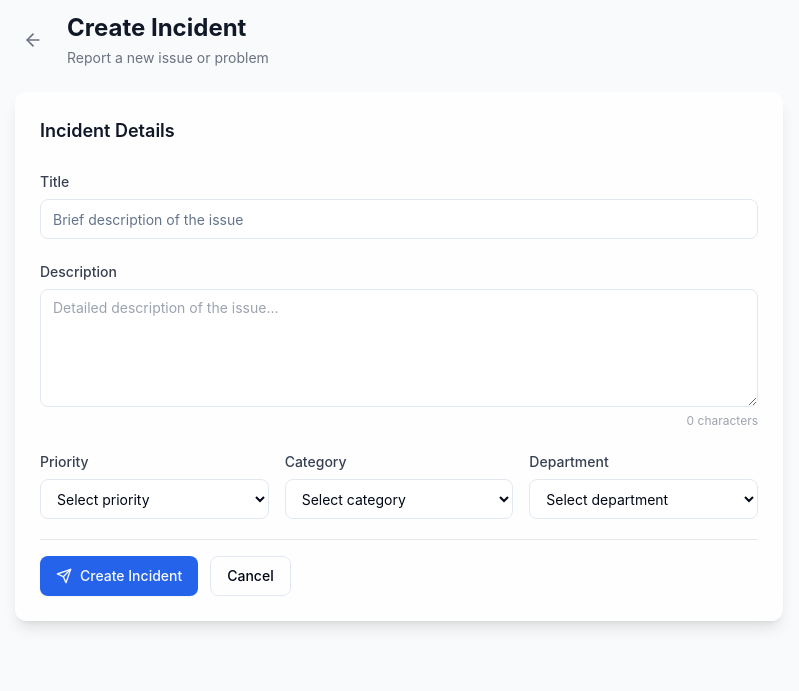
Test: CreateIncident › shows validation for short title
The image size is (799, 691).
Type "ab" into the field with placeholder "Brief description of the issue" at (399, 219), box [40,199,758,239]
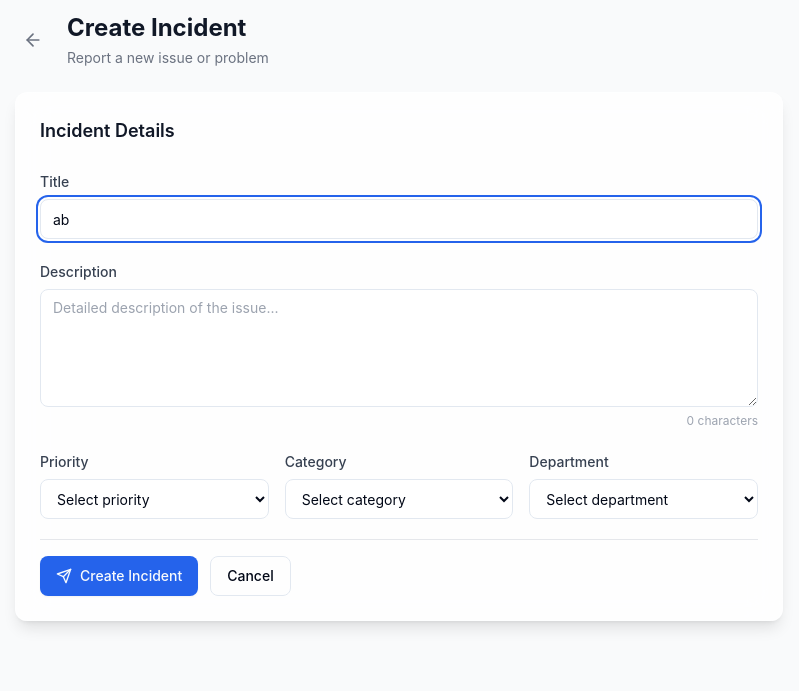
Submit the form, box [40,169,758,596]
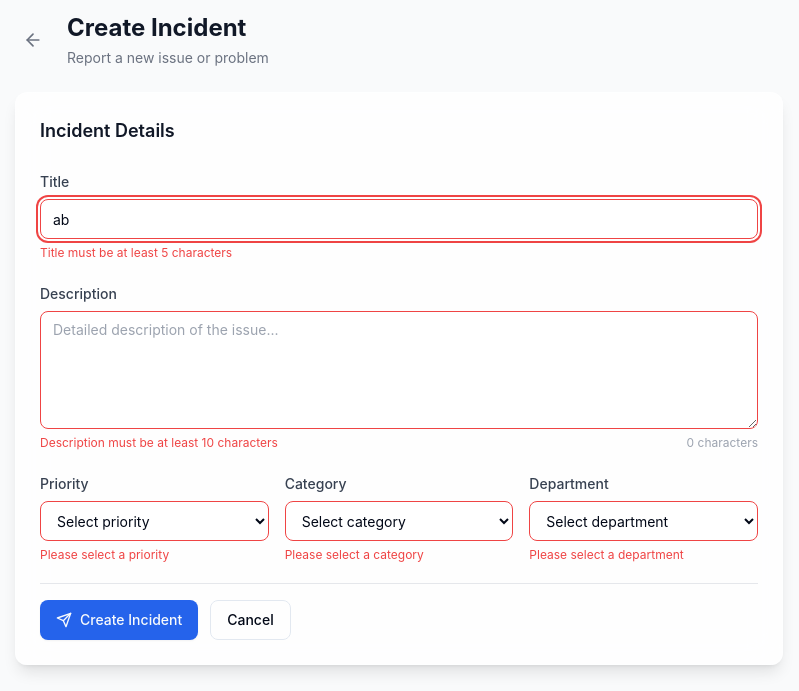
Expected: the text "Title must be at least 5 characters" is shown, [40,245,232,260]
